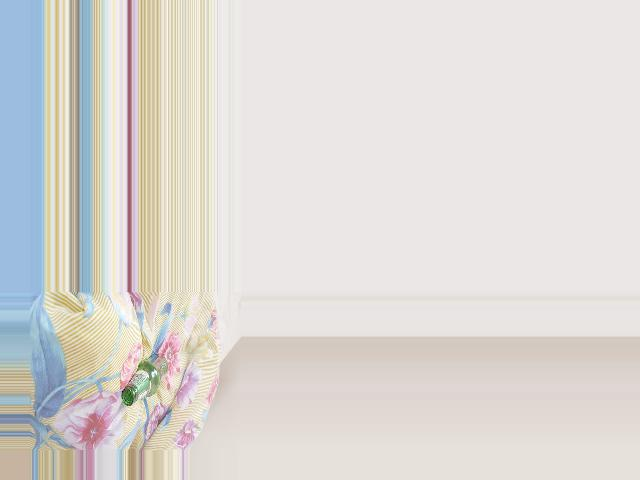beer: (120, 354, 167, 406)
